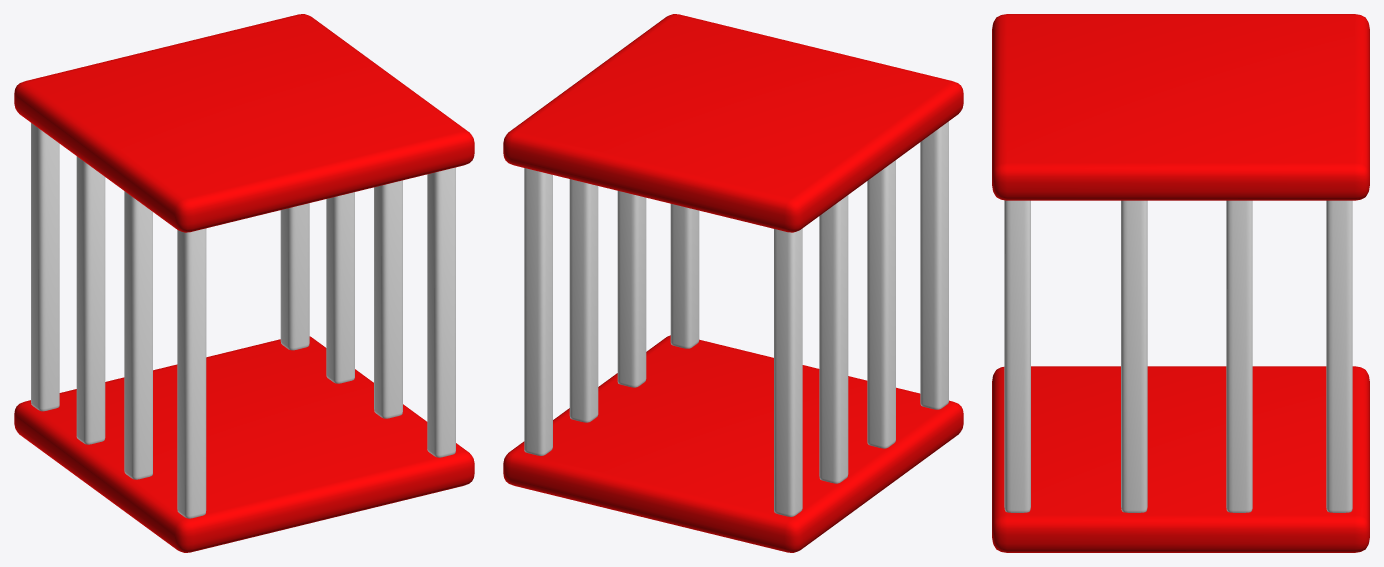
Rendered from Asansor.FBX.
The picture shows the model from 3 angles, left to right: view 1: azimuth 30°, elevation 25°; view 2: azimuth 150°, elevation 25°; view 3: azimuth 270°, elevation 25°; orthographic projection. The views are drawn at different scales.
Visible parts, largest first — view 1: Box007; view 2: Box007; view 3: Box007.
Boxes of the visible parts, bbox=[...] form: Box007: bbox=[14, 14, 474, 552]; Box007: bbox=[503, 14, 963, 552]; Box007: bbox=[992, 14, 1369, 552].
Size of the model in its own units: 100 by 100 by 113.
